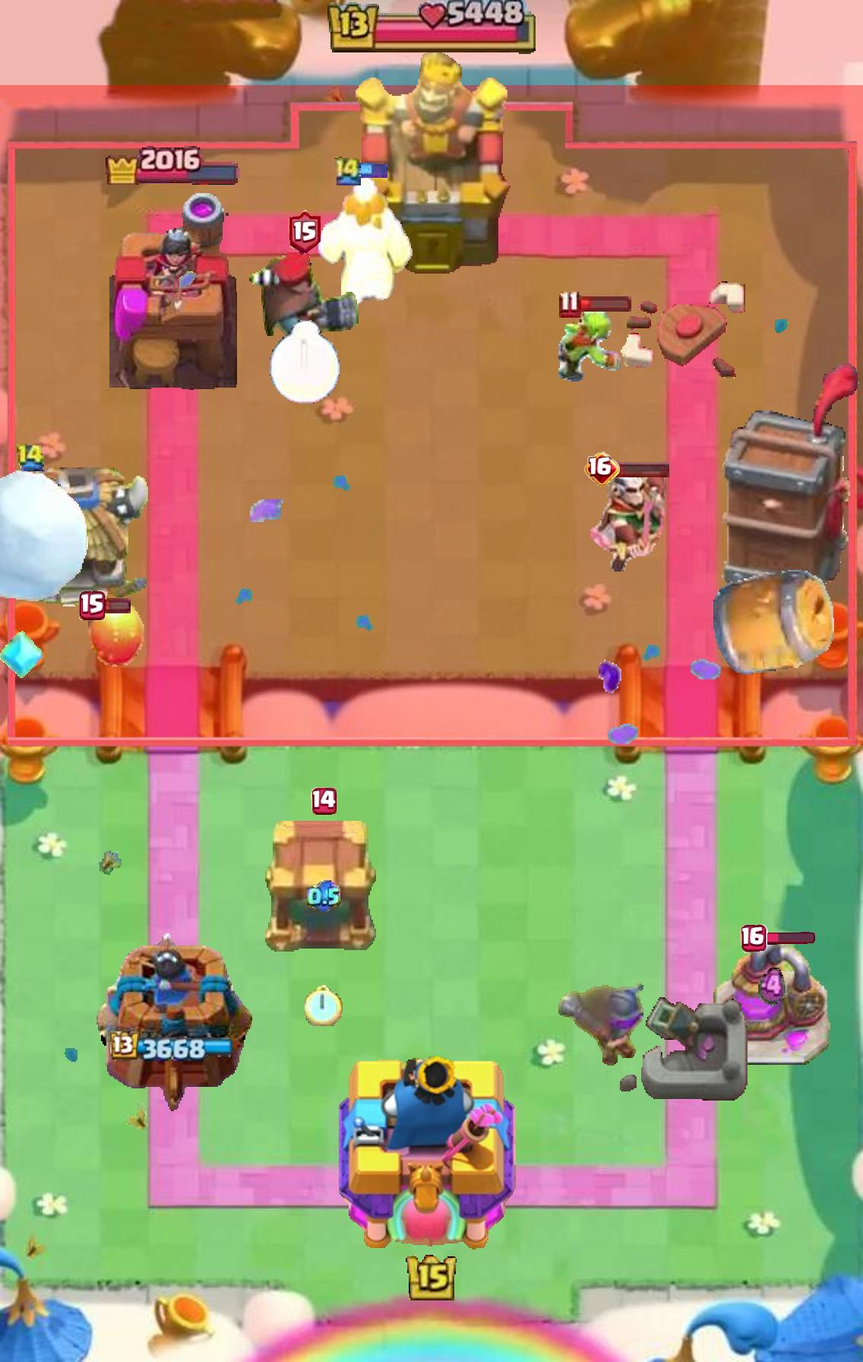bar: (615, 460, 670, 478), (577, 296, 632, 312), (763, 931, 815, 944), (103, 597, 131, 614)
bar-level: (289, 210, 321, 254), (584, 451, 620, 486), (740, 924, 768, 953), (79, 591, 106, 621), (310, 787, 337, 815), (558, 290, 581, 318)
